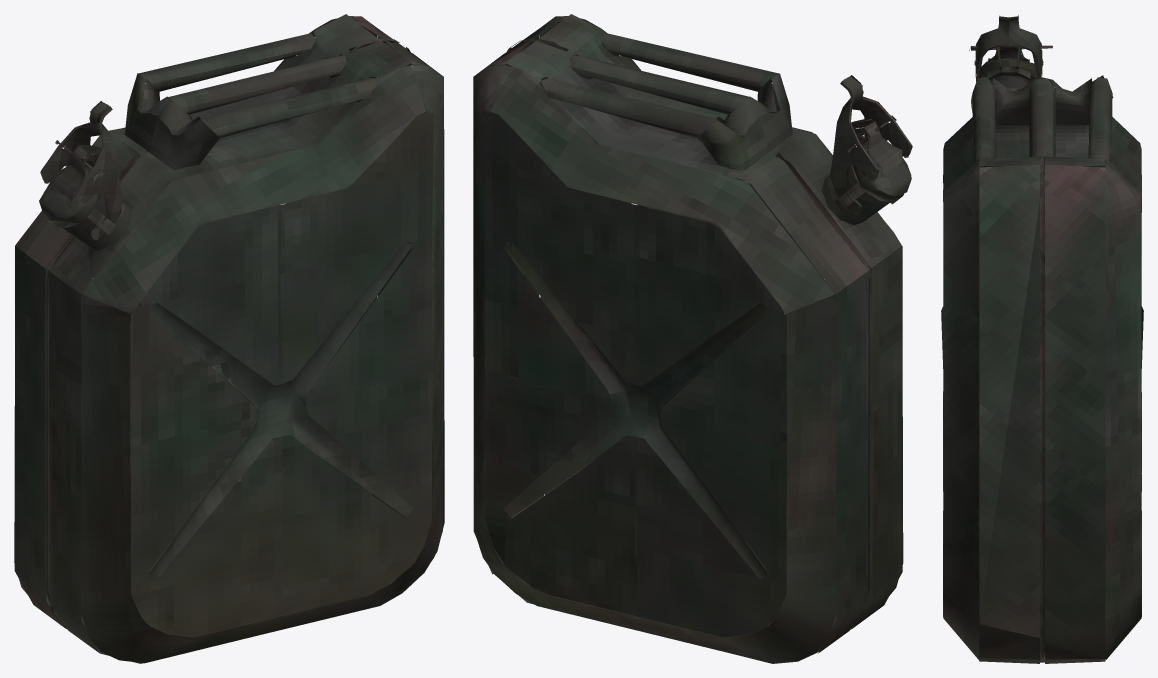
Rendered from metal_jerrycan_green.glb.
3 renders of one model, left to right at view 1: azimuth 30°, elevation 25°; view 2: azimuth 150°, elevation 25°; view 3: azimuth 270°, elevation 25°, orthographic. The views are drawn at different scales.
Visible parts, largest first — view 1: metal_jerrycan_green_pin; view 2: metal_jerrycan_green_pin; view 3: metal_jerrycan_green_pin.
Part boxes in pixels (bbox=[...]): metal_jerrycan_green_pin: bbox=[14, 14, 444, 663]; metal_jerrycan_green_pin: bbox=[473, 14, 912, 663]; metal_jerrycan_green_pin: bbox=[941, 15, 1143, 663].
Size of the model in its own units: 0.3608 by 0.4998 by 0.1749.
Materials: 1 (1 with a texture image).
